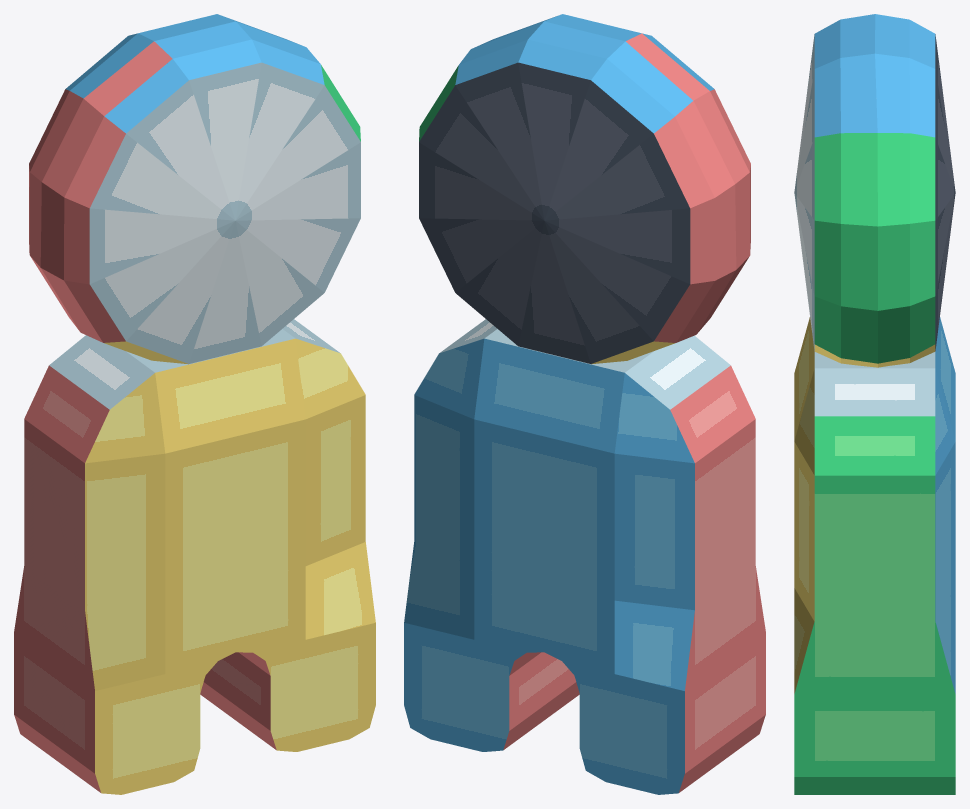
File: person_buildingblock_crowd.obj
3 renders of one model, left to right at view 1: azimuth 30°, elevation 25°; view 2: azimuth 150°, elevation 25°; view 3: azimuth 270°, elevation 25°, orthographic.
Parts seen in each view (by area): view 1: cube, circle; view 2: cube, circle; view 3: cube, circle.
Boxes of the visible parts, x1,y1,x2,y2 form: cube: (14, 319, 375, 794); circle: (29, 14, 360, 364); cube: (404, 319, 765, 794); circle: (419, 14, 750, 364); cube: (794, 317, 955, 794); circle: (794, 14, 955, 367).
Bounding box in the file's own units: 1.09 × 2.4 × 0.5.
